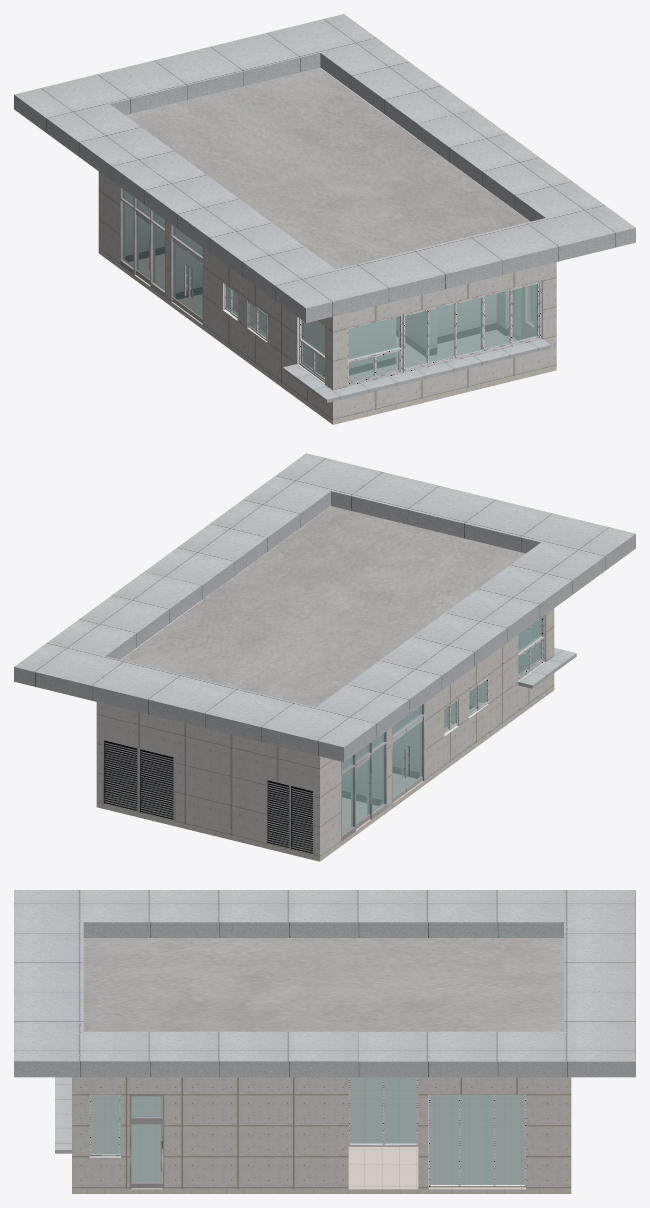
File: 13-GC-OUT-security-office.glb
3 renders of one model, top to bottom at view 1: azimuth 30°, elevation 25°; view 2: azimuth 150°, elevation 25°; view 3: azimuth 270°, elevation 25°, orthographic. The views are drawn at different scales.
Parts seen in each view (by area): view 1: Line2248, Box102, Box060, security-office, Box099, Rectangle902, Line1546, Rectangle910; view 2: Line2248, Box102, Box060, Box104, security-office, Box099, Rectangle910, Rectangle902, Line1546; view 3: Line2248, Box102, Box060, Box099, security-office, Rectangle902, Line1546, Rectangle910.
Part boxes in pixels (x1,y1,x2,y2): Line2248: (14, 14, 635, 322); Box102: (125, 67, 529, 269); Box060: (98, 171, 556, 420); security-office: (122, 189, 537, 382); Box099: (98, 249, 556, 424); Rectangle902: (224, 281, 541, 386); Line1546: (282, 339, 550, 402); Rectangle910: (120, 187, 203, 324); Line2248: (14, 453, 635, 761); Box102: (121, 506, 525, 707); Box060: (96, 608, 554, 857); Box104: (102, 739, 314, 855); security-office: (342, 618, 541, 834); Box099: (96, 686, 554, 861); Rectangle910: (341, 703, 424, 841); Rectangle902: (444, 616, 544, 733); Line1546: (518, 647, 576, 688); Line2248: (14, 890, 635, 1077); Box102: (83, 938, 563, 1031); Box060: (72, 1077, 571, 1189); Box099: (72, 1077, 571, 1193); security-office: (91, 1077, 524, 1184); Rectangle902: (89, 1077, 525, 1187); Line1546: (55, 1077, 71, 1153); Rectangle910: (129, 1094, 164, 1189).
Size of the model in its own units: 11.67 by 5.06 by 17.88.
Materials: 11 (9 with a texture image).
